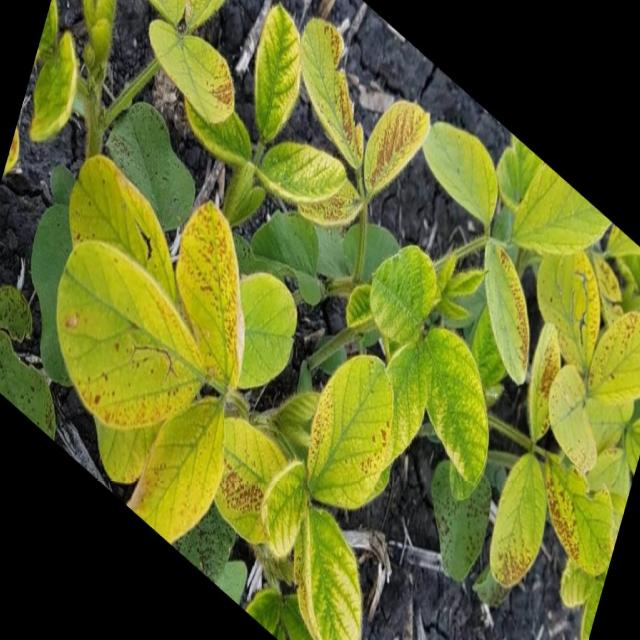Chlorosis: (19, 7, 631, 640)
